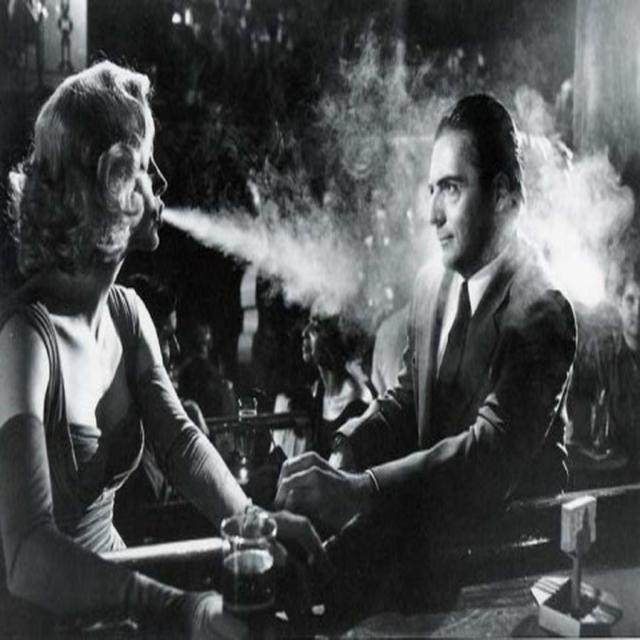smoking: (90, 112, 289, 326)
